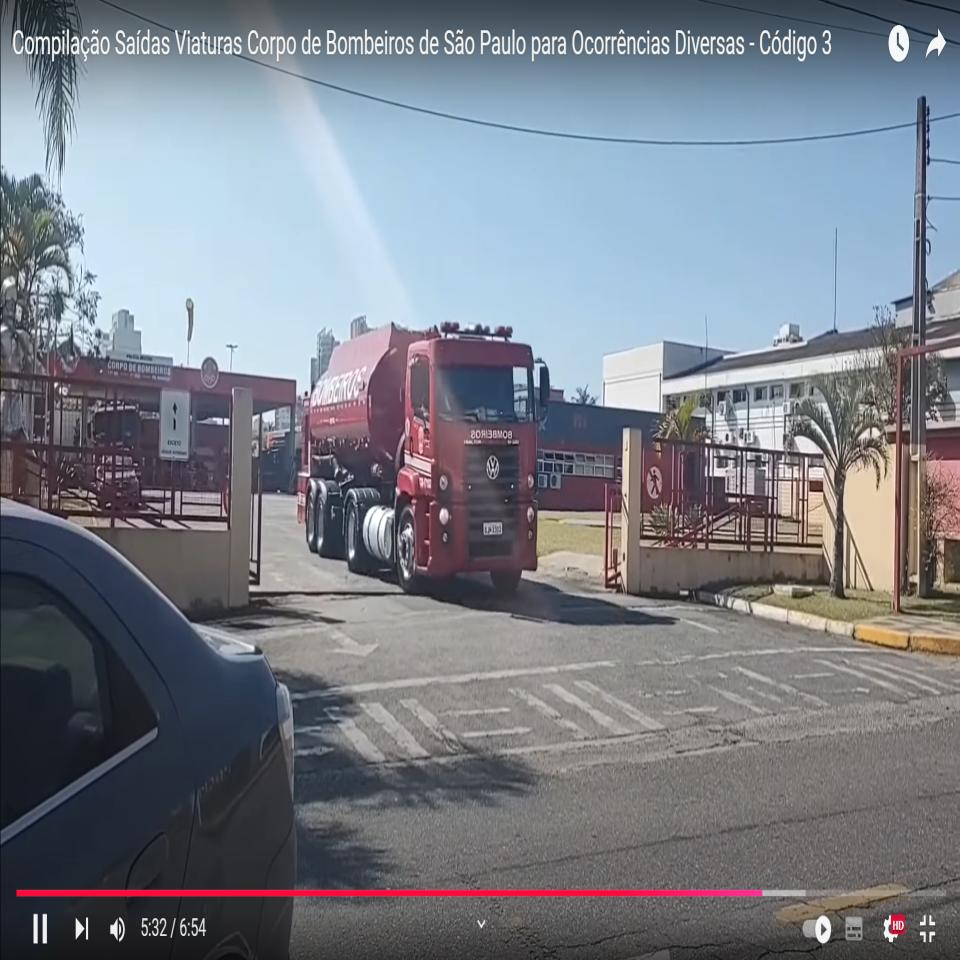bombeiro: (304, 319, 550, 591)
